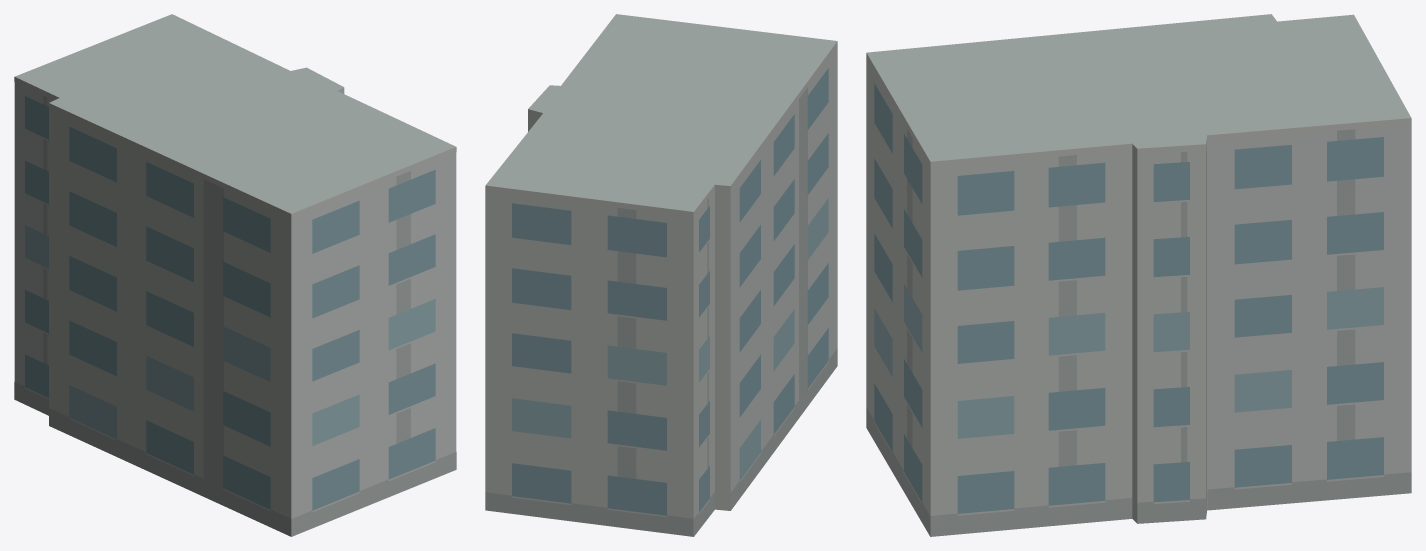
File: survey-upis-32823473.glb
The picture shows the model from 3 angles, left to right: view 1: azimuth 30°, elevation 25°; view 2: azimuth 150°, elevation 25°; view 3: azimuth 270°, elevation 25°; orthographic projection. The views are drawn at different scales.
Parts seen in each view (by area): view 1: survey-upis-32823473.tmp; view 2: survey-upis-32823473.tmp; view 3: survey-upis-32823473.tmp.
Part boxes in pixels (x1,y1,x2,y2): survey-upis-32823473.tmp: [14, 14, 456, 536]; survey-upis-32823473.tmp: [485, 14, 837, 536]; survey-upis-32823473.tmp: [866, 14, 1411, 536].
Size of the model in its own units: 12.13 by 14.35 by 18.91.
